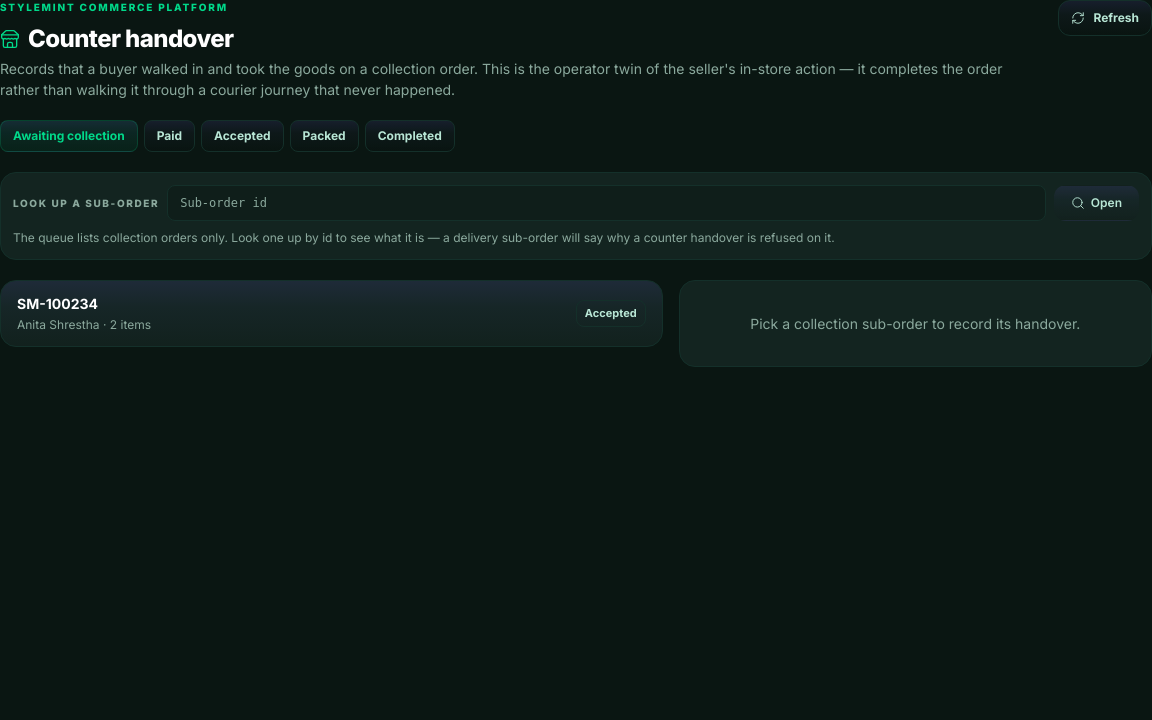
Test: CounterHandoverPage › surfaces a backend refusal as text instead of swallowing it
The width and height of the screenshot is (1152, 720).
Step 1. Click the text "SM-100234" → (58, 304), box [17,295,98,312]
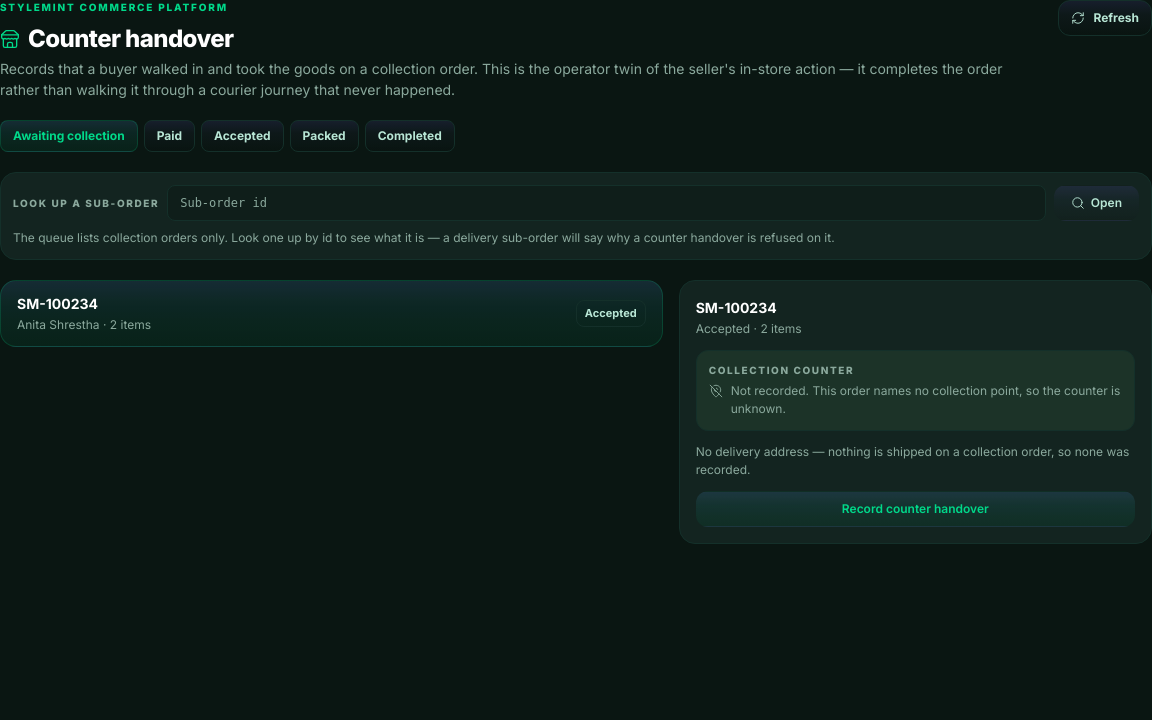
Step 2. Click the button "Record counter handover" → (915, 509), box [696,491,1135,527]
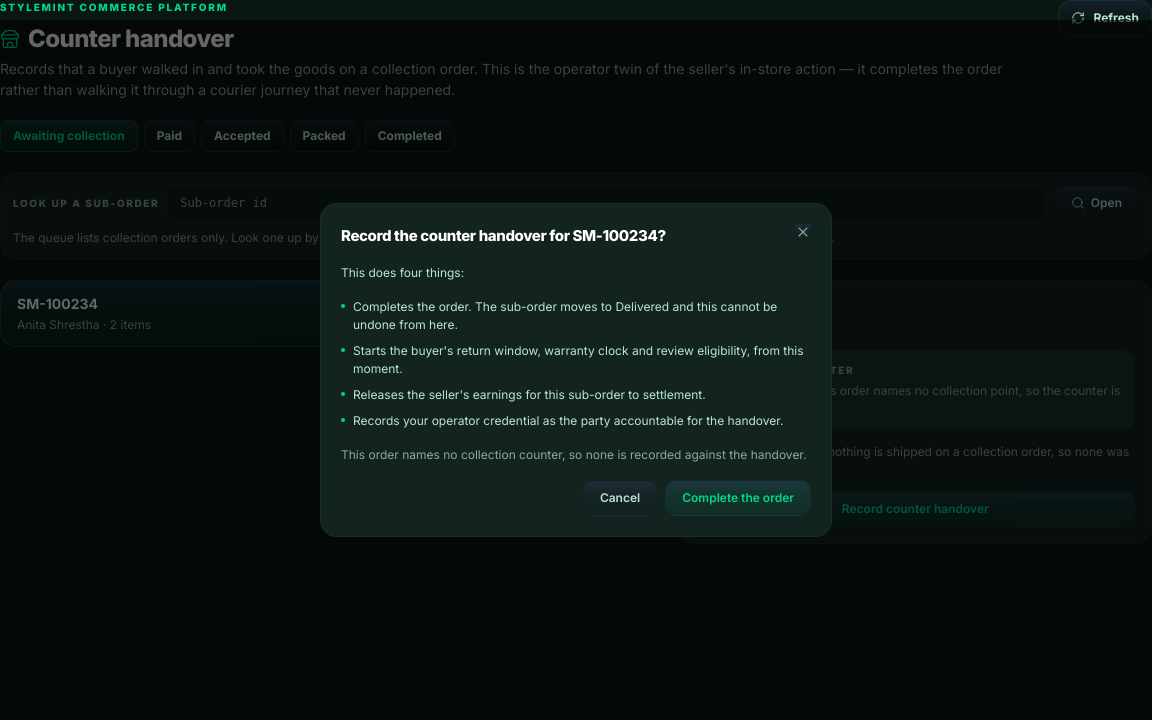
Step 3. Click the button "Complete the order" → (738, 498), box [665,480,811,516]
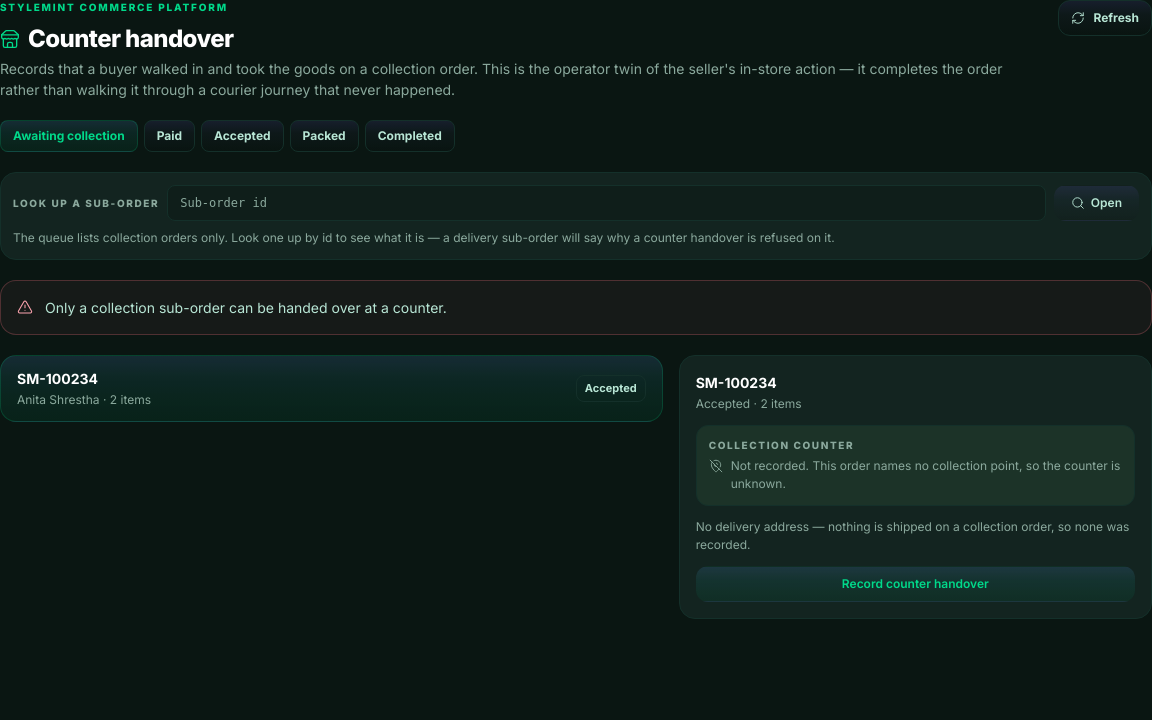
Now the text "Only a collection sub-order can be handed over at a counter." is shown, box [45,297,447,318]
